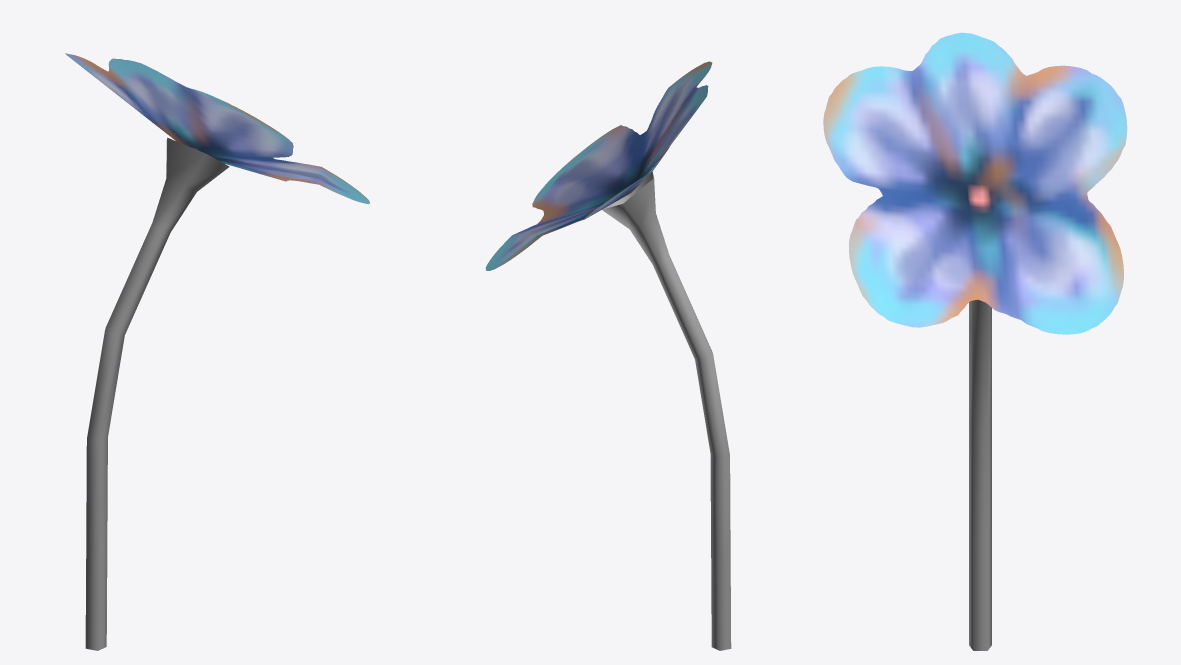
Rendered from FlowerSingle4.fbx.
3 renders of one model, left to right at view 1: azimuth 30°, elevation 25°; view 2: azimuth 150°, elevation 25°; view 3: azimuth 270°, elevation 25°, orthographic. The views are drawn at different scales.
Parts seen in each view (by area): view 1: FlowerSingle4; view 2: FlowerSingle4; view 3: FlowerSingle4.
Boxes of the visible parts, x1,y1,x2,y2 form: FlowerSingle4: (65,53,369,650); FlowerSingle4: (485,61,731,650); FlowerSingle4: (823,32,1127,650).
Size of the model in its own units: 0.4164 by 0.9228 by 0.4764.
